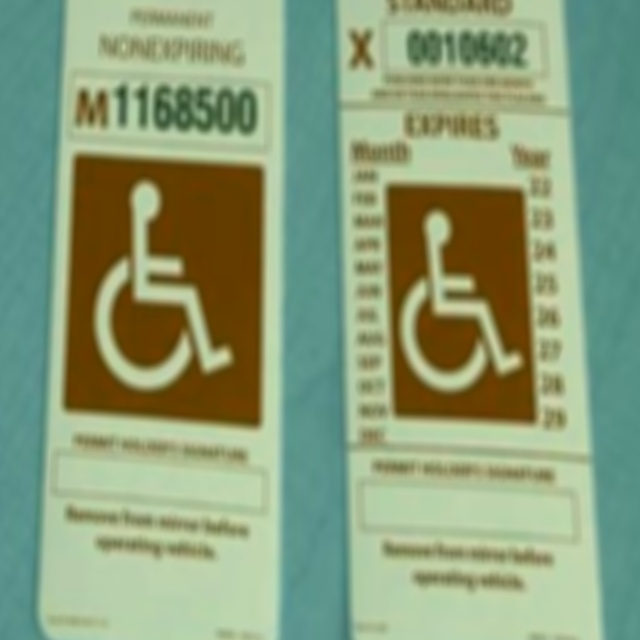ISA: (90, 177, 236, 398), (398, 196, 527, 402)
